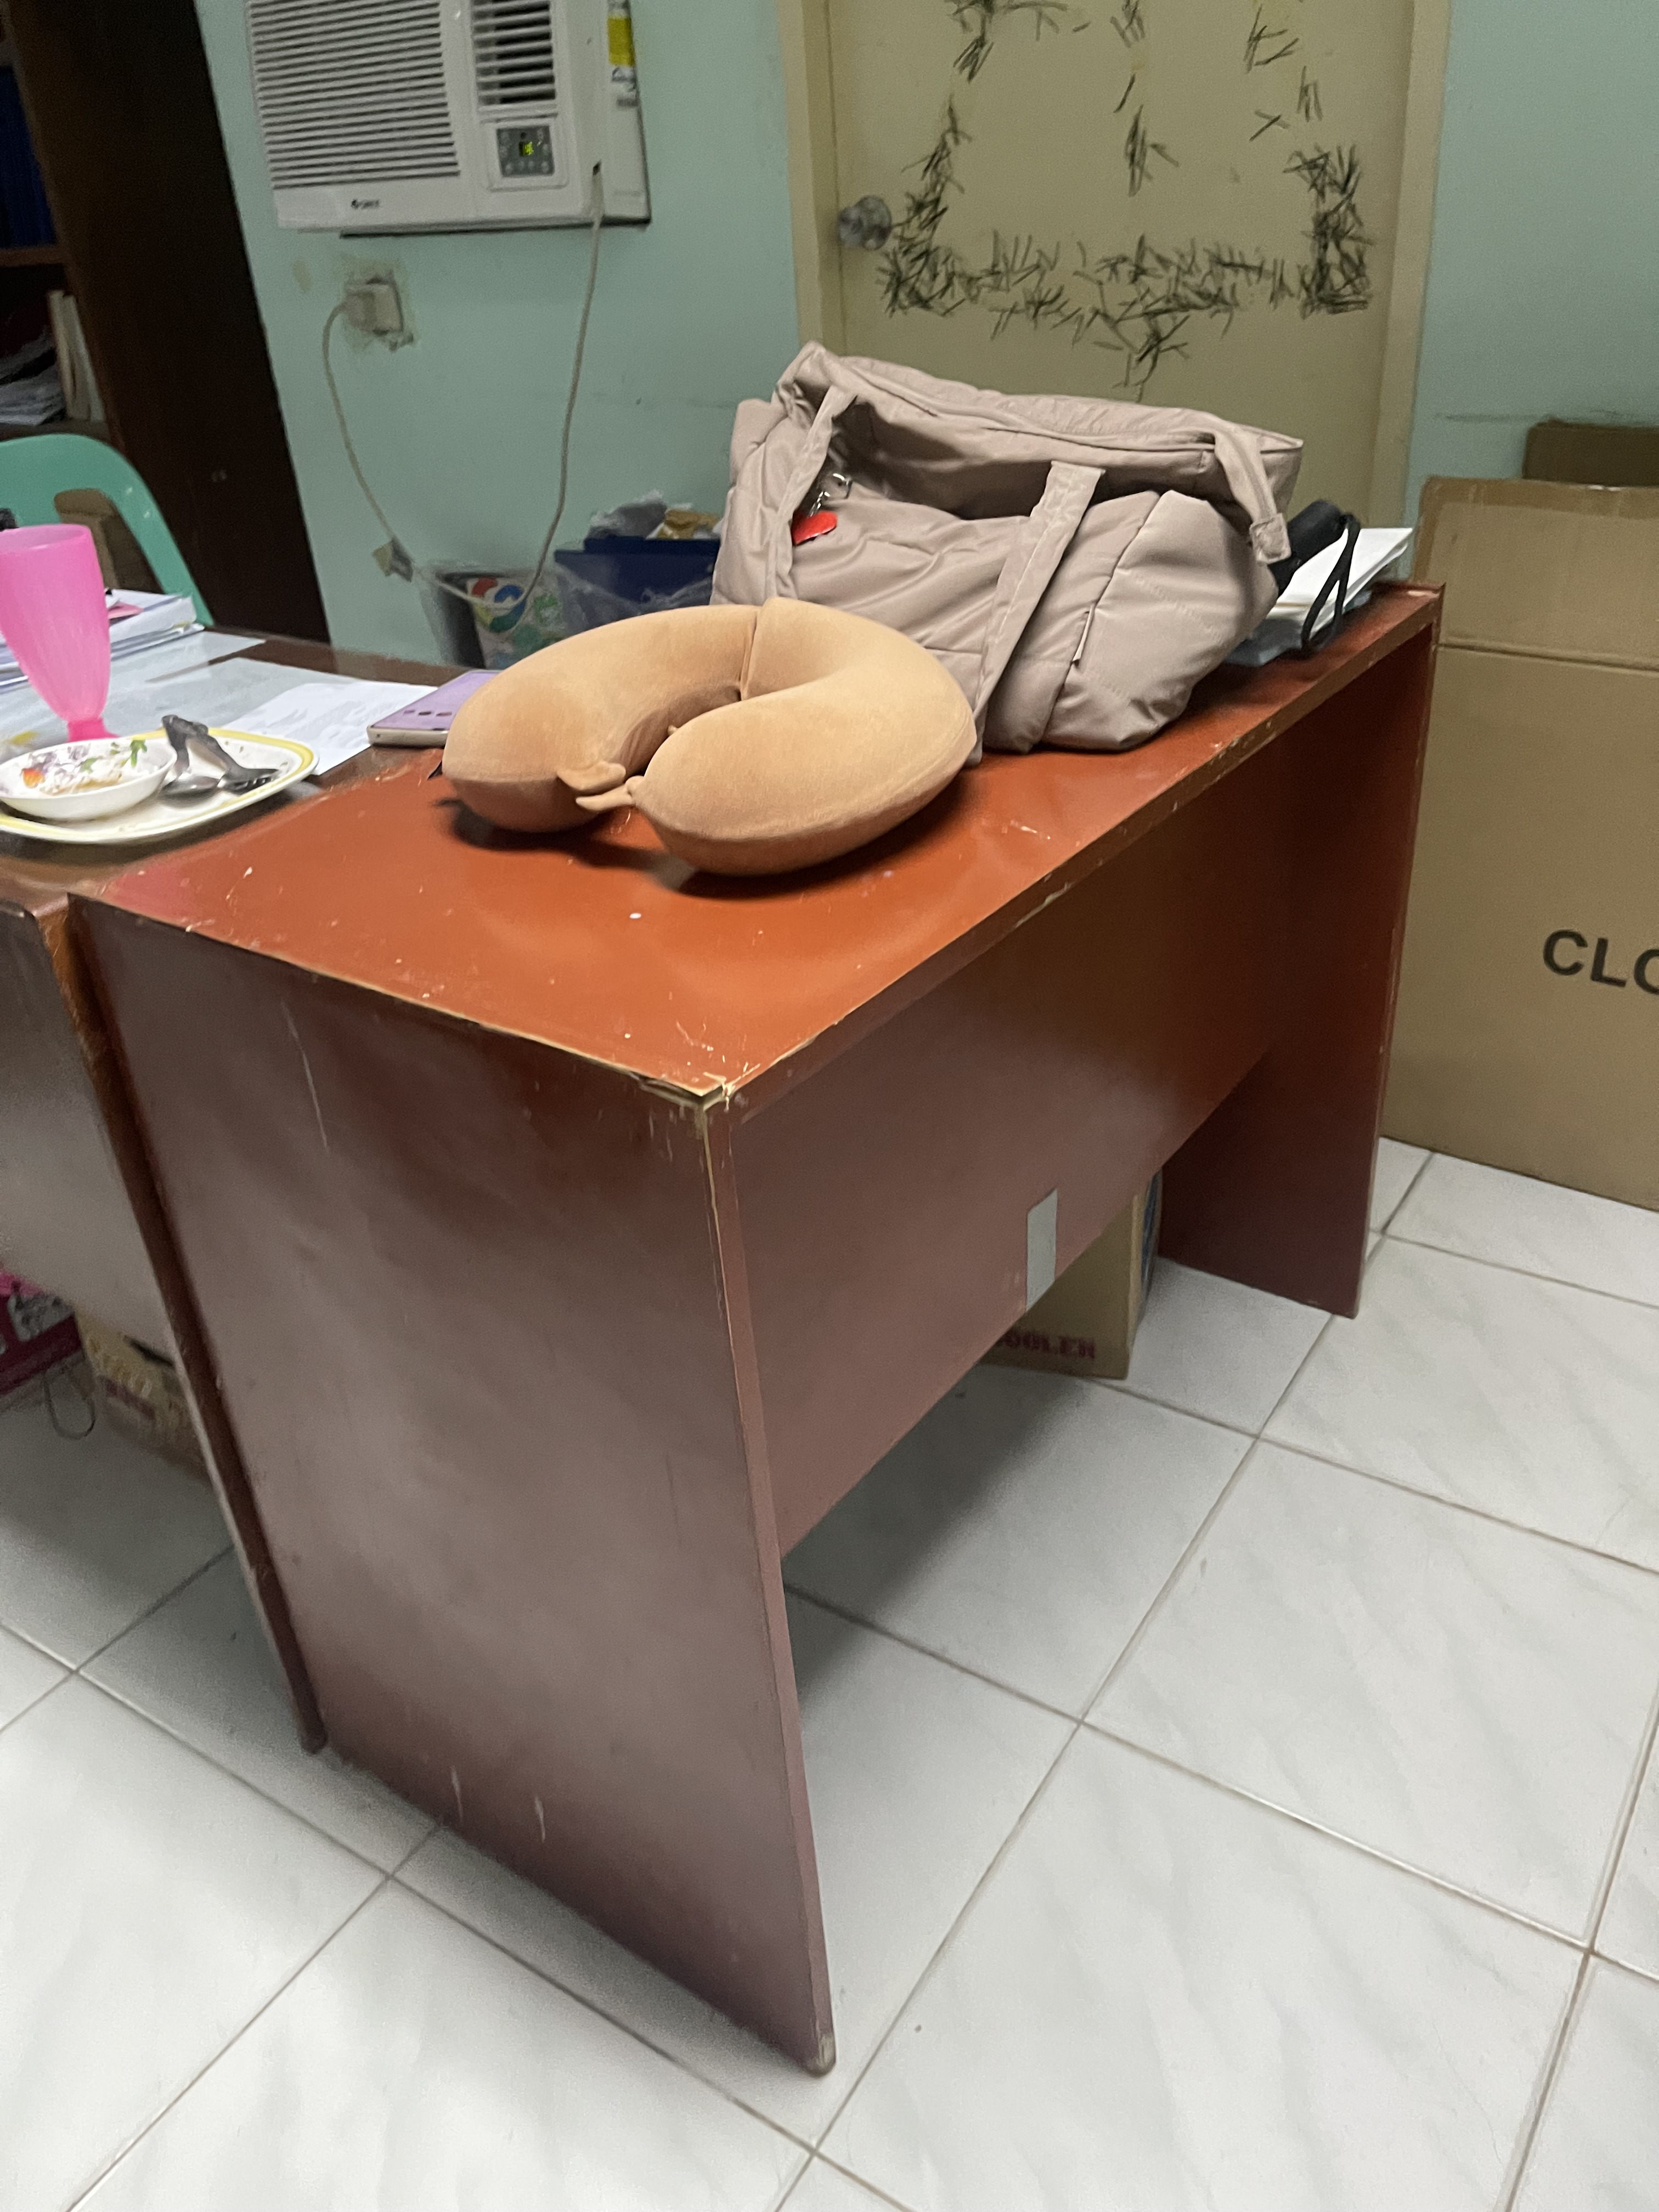table2: (12, 512, 1452, 2085)
